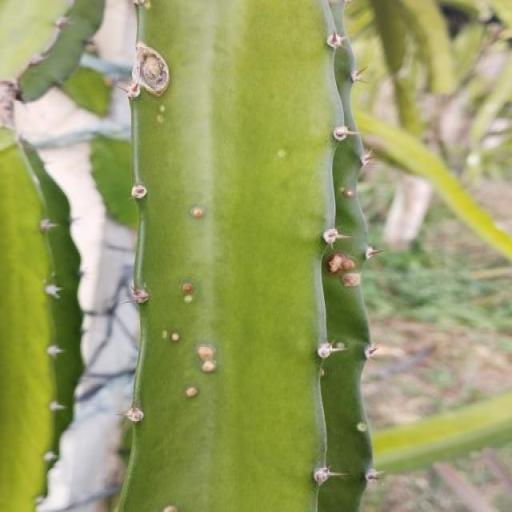stemcanker: (296, 359, 318, 392), (252, 359, 268, 397), (353, 326, 370, 360), (328, 373, 344, 398), (192, 228, 204, 252), (330, 399, 343, 417), (207, 454, 216, 476), (216, 458, 224, 477)
